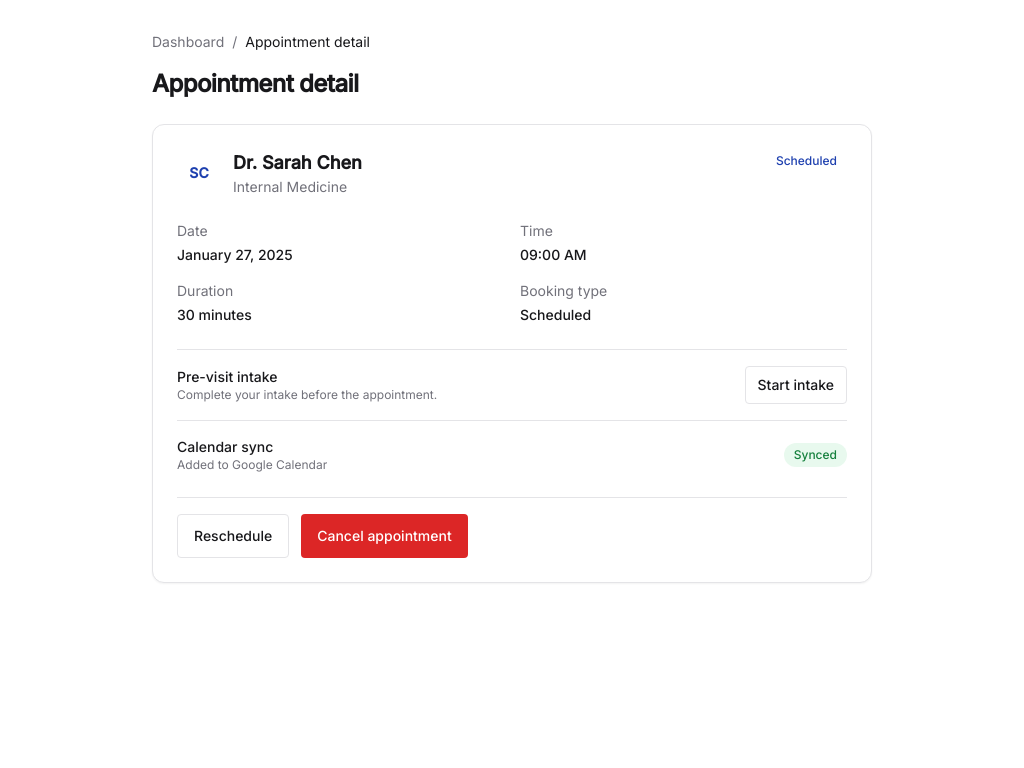
AppointmentDetailPage › opens cancel confirmation dialog and updates status after cancel
Expected: the heading "Appointment detail" is shown, [152,69,358,98]
Click the button "Cancel appointment".
click(384, 536)  # box [301,514,468,558]
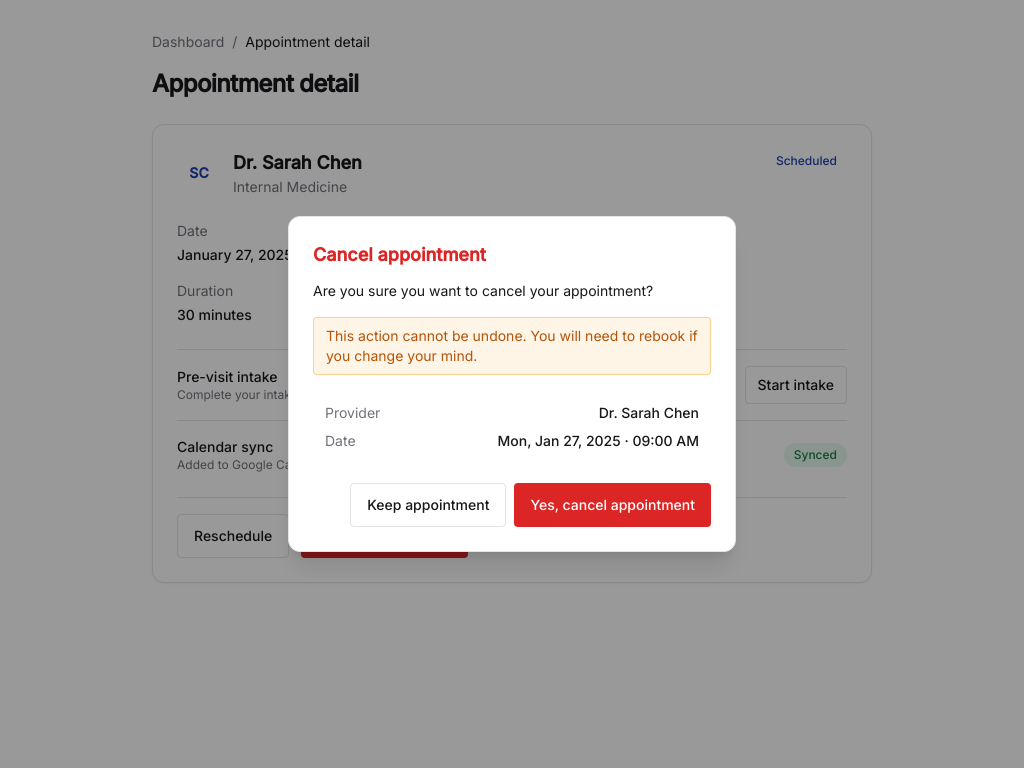
Expected: the dialog is shown, [288,216,736,552]
Expected: the text "Are you sure you want to cancel your appointment?" is shown, [313,281,711,301]
Click the button "Yes, cancel appointment".
click(613, 505)  # box [514,483,711,527]
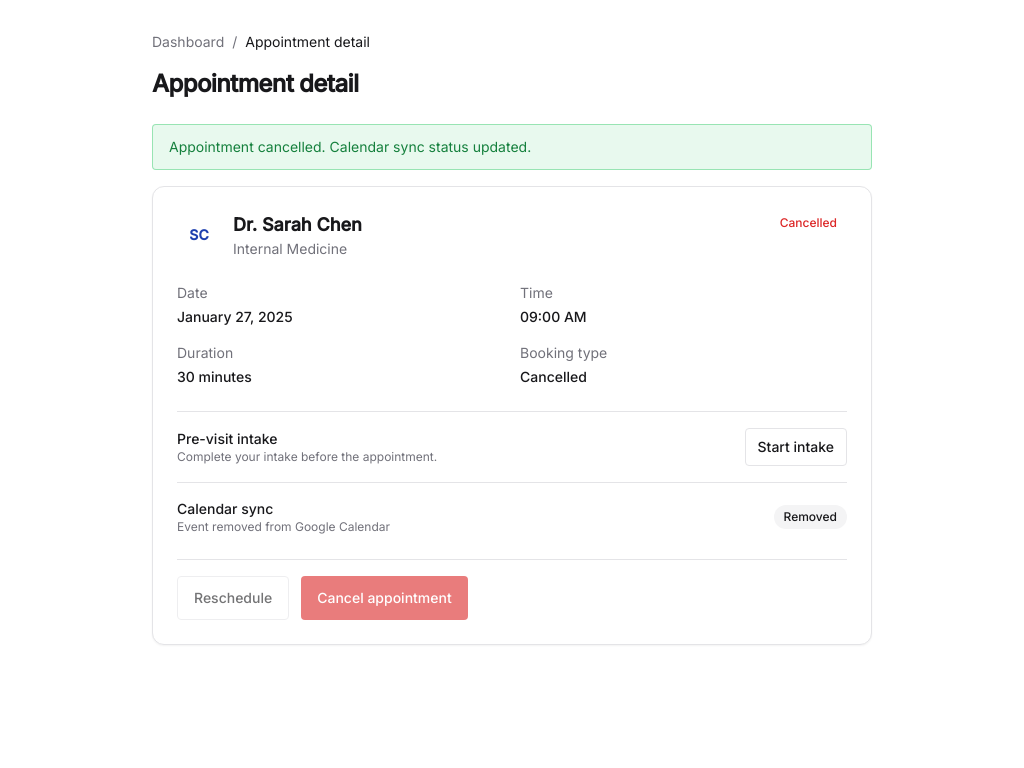
Expected: the text "Appointment cancelled. Calendar sync status updated." is shown, [152,124,872,170]
Expected: the text "Cancelled" in the row of "Dr. Sarah Chen" is shown, [780,215,837,230]
Expected: the text "Removed" is shown, [774,505,847,529]
